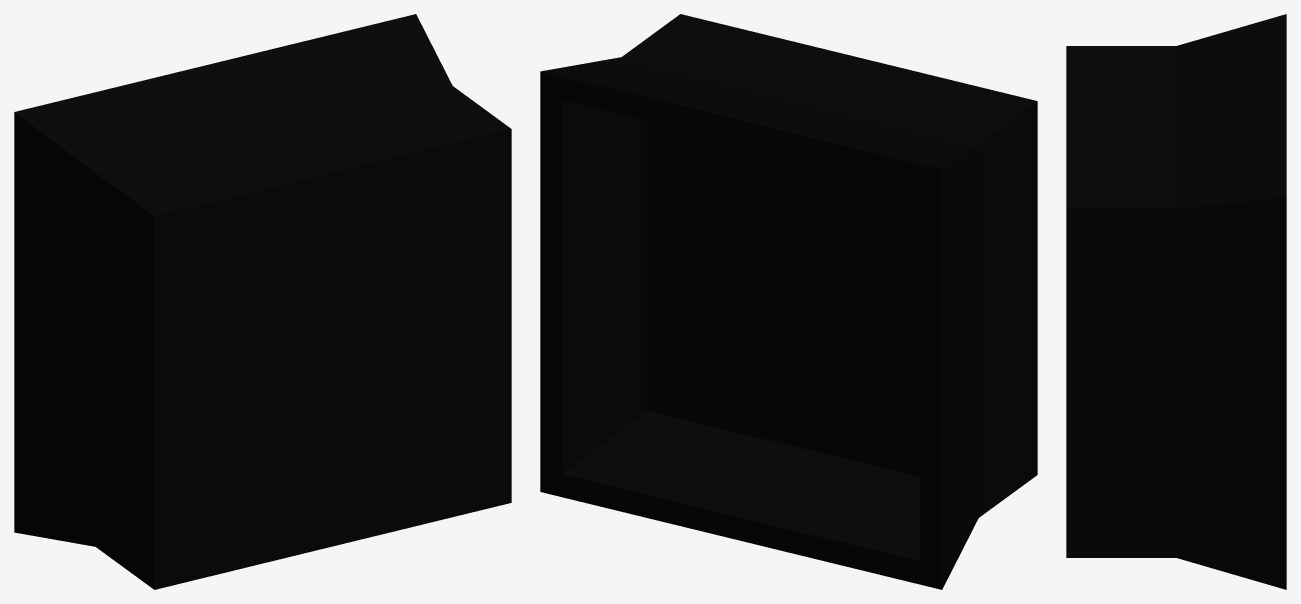
The model's file is Hopper.dae.
3 renders of one model, left to right at view 1: azimuth 30°, elevation 25°; view 2: azimuth 150°, elevation 25°; view 3: azimuth 270°, elevation 25°, orthographic. The views are drawn at different scales.
Visible parts, largest first — view 1: Output; view 2: Output; view 3: Output.
Part boxes in pixels (<box>): Output: <box>14,14,511,589</box>; Output: <box>540,14,1037,589</box>; Output: <box>1066,14,1286,589</box>.
Size of the model in its own units: 0.9844 by 0.5 by 0.9844.
1 material, 1 textured.
